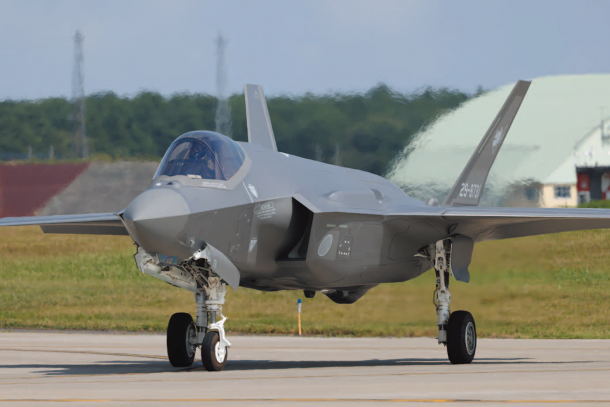F35: (1, 73, 609, 376)
